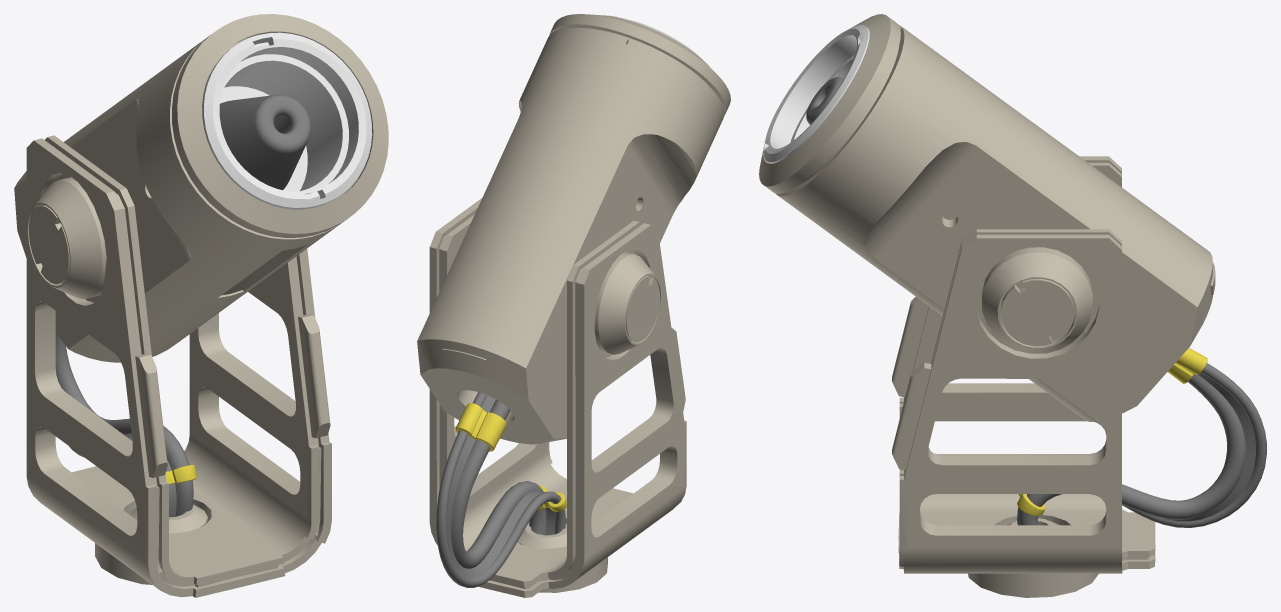
The model's file is weapon01.fbx.
3 renders of one model, left to right at view 1: azimuth 30°, elevation 25°; view 2: azimuth 150°, elevation 25°; view 3: azimuth 270°, elevation 25°, orthographic. The views are drawn at different scales.
Visible parts, largest first — view 1: BlackPhoenix_Full_3D_KitBashLibrary_2014Update_MechAttachmen (×4); view 2: BlackPhoenix_Full_3D_KitBashLibrary_2014Update_MechAttachmen (×3); view 3: BlackPhoenix_Full_3D_KitBashLibrary_2014Update_MechAttachmen (×5).
Part boxes in pixels (x1,y1,x2,y2): BlackPhoenix_Full_3D_KitBashLibrary_2014Update_MechAttachmen (×4): (14, 14, 388, 597); BlackPhoenix_Full_3D_KitBashLibrary_2014Update_MechAttachmen (×3): (417, 14, 730, 597); BlackPhoenix_Full_3D_KitBashLibrary_2014Update_MechAttachmen (×5): (759, 14, 1266, 597).
Bounding box in the file's own units: 3.12 × 7.67 × 6.49.
